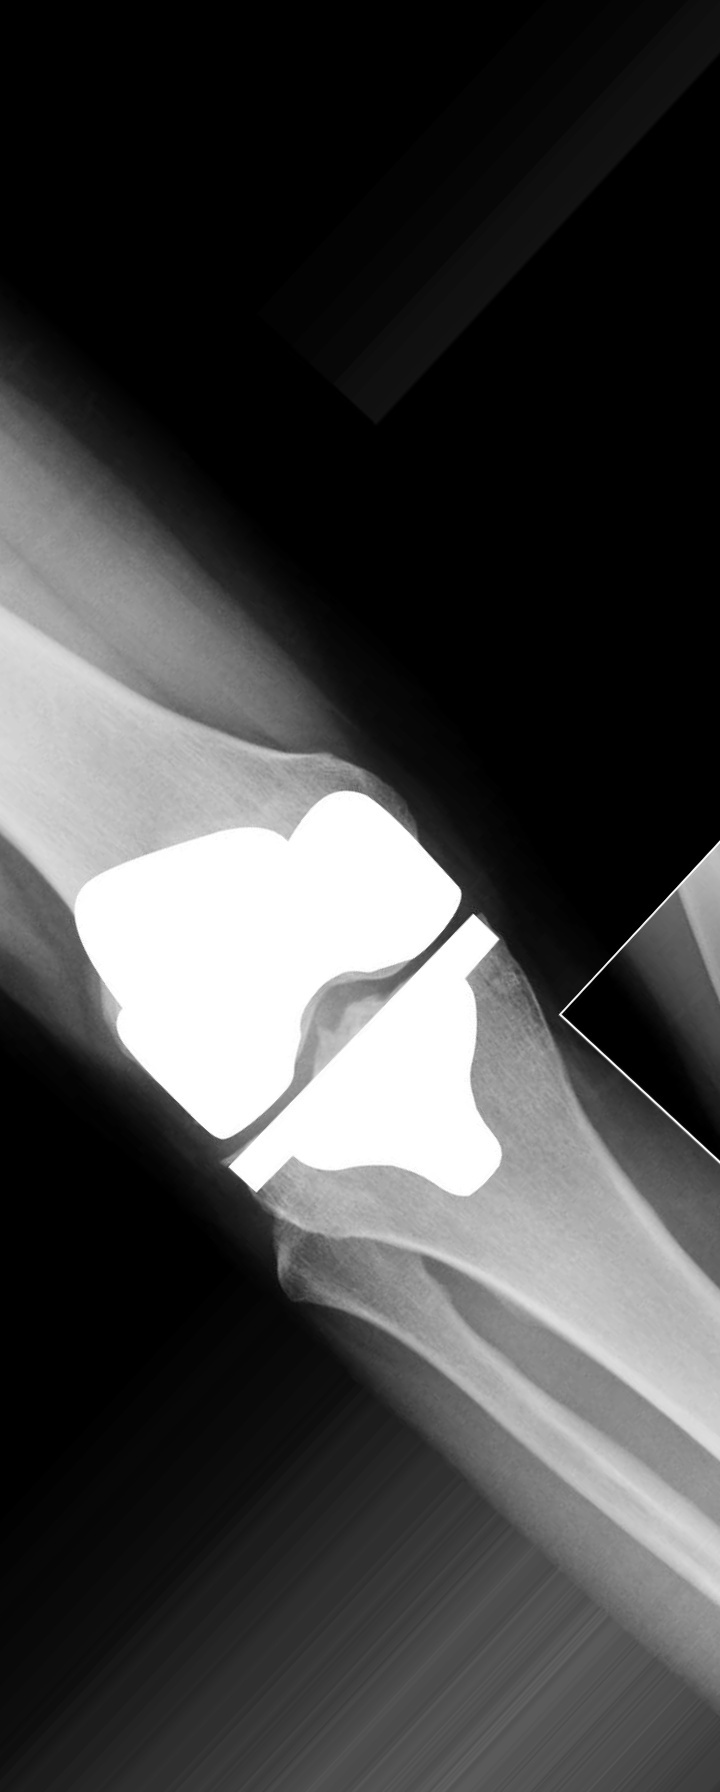Knee-Triathlon-Stryker: (66, 794, 511, 1203)
